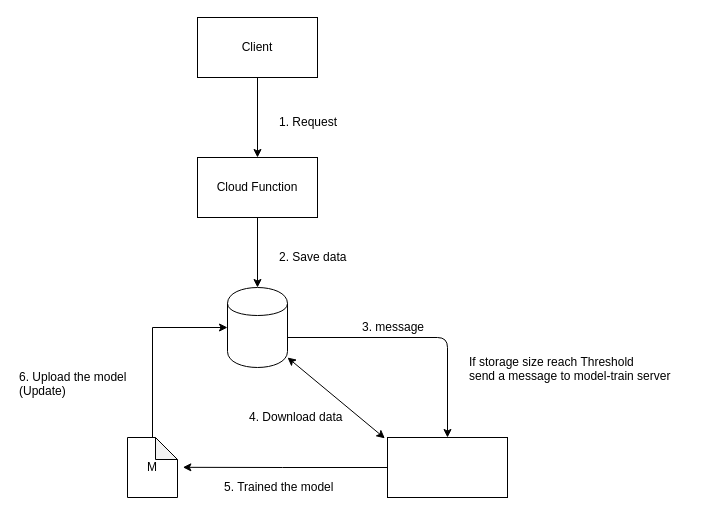
The diagram is 704 pixels wide and 515 high, and some of its shapes have lost their labels. Each missing label, with the centre of its shape:
"Cloud Storage" goes at pixel 257 327.
"Model-train Server" goes at pixel 447 467.
